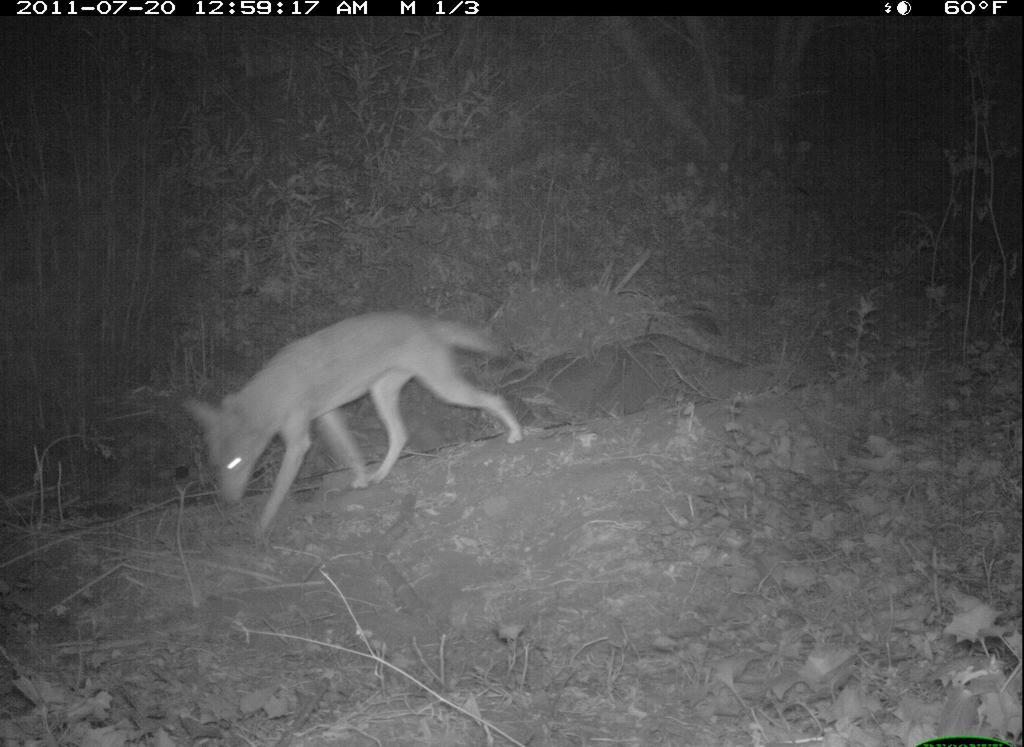coyote: (175, 294, 551, 546)
